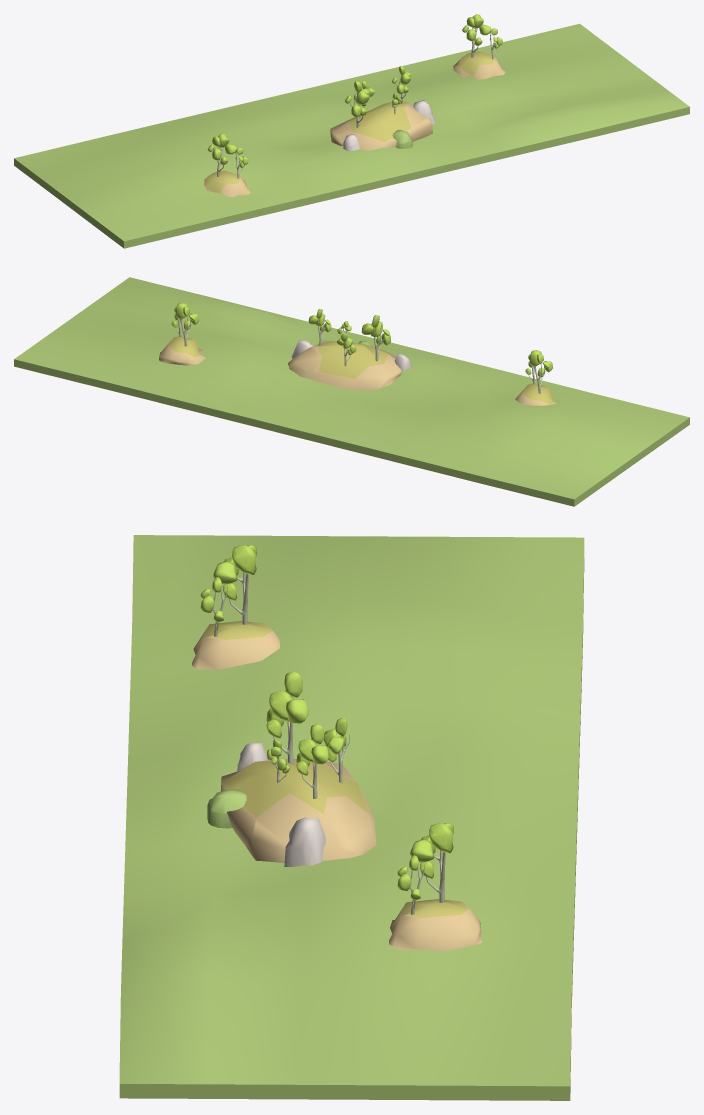
File: road side_nature land.fbx
3 views of the same model, one above another, from view 1: azimuth 30°, elevation 25°; view 2: azimuth 150°, elevation 25°; view 3: azimuth 270°, elevation 25° (orthographic). The views are drawn at different scales.
Visible parts, largest first — view 1: grass2, polySurface319, polySurface352, polySurface318, tree8, tree, tree_3; view 2: grass2, polySurface319, polySurface352, polySurface318, tree_3, tree, tree8, tree_4; view 3: grass2, polySurface319, polySurface352, polySurface318, tree_3, polySurface348, tree8, tree, tree_4, polySurface320, tree4.
Part boxes in pixels (box(x1,y1,x2,y2)): grass2: box(14, 23, 689, 248); polySurface319: box(330, 101, 432, 150); polySurface352: box(453, 51, 505, 79); polySurface318: box(204, 170, 250, 197); tree8: box(462, 14, 491, 57); tree: box(207, 133, 237, 176); tree_3: box(345, 80, 369, 127); grass2: box(14, 277, 689, 506); polySurface319: box(288, 340, 401, 390); polySurface352: box(159, 336, 205, 365); polySurface318: box(515, 383, 556, 405); tree_3: box(361, 315, 390, 361); tree: box(529, 350, 553, 393); tree8: box(175, 302, 199, 346); tree_4: box(308, 309, 331, 345); grass2: box(119, 535, 584, 1100); polySurface319: box(220, 759, 376, 862); polySurface352: box(389, 899, 481, 951); polySurface318: box(192, 621, 279, 669); tree_3: box(266, 671, 308, 764); polySurface348: box(284, 817, 325, 866); tree8: box(410, 822, 453, 902); tree: box(213, 544, 256, 624); tree_4: box(296, 724, 328, 798); polySurface320: box(207, 789, 246, 828); tree4: box(324, 718, 349, 783).
Size of the model in its own units: 991 by 122 by 353.
